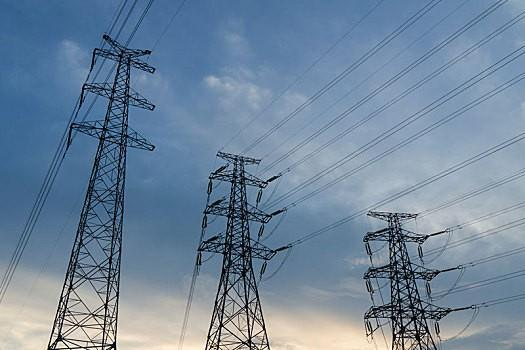power_tower: (47, 27, 162, 349), (188, 146, 290, 350), (362, 207, 467, 350)
